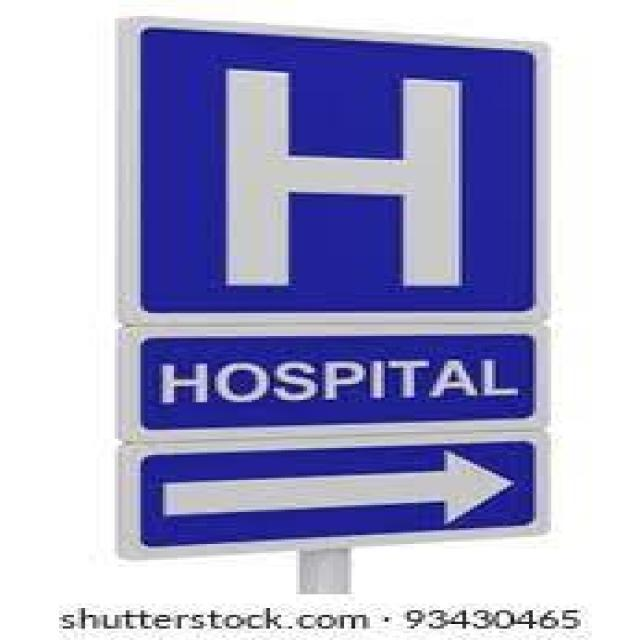hospital ahead: (168, 57, 513, 296)
